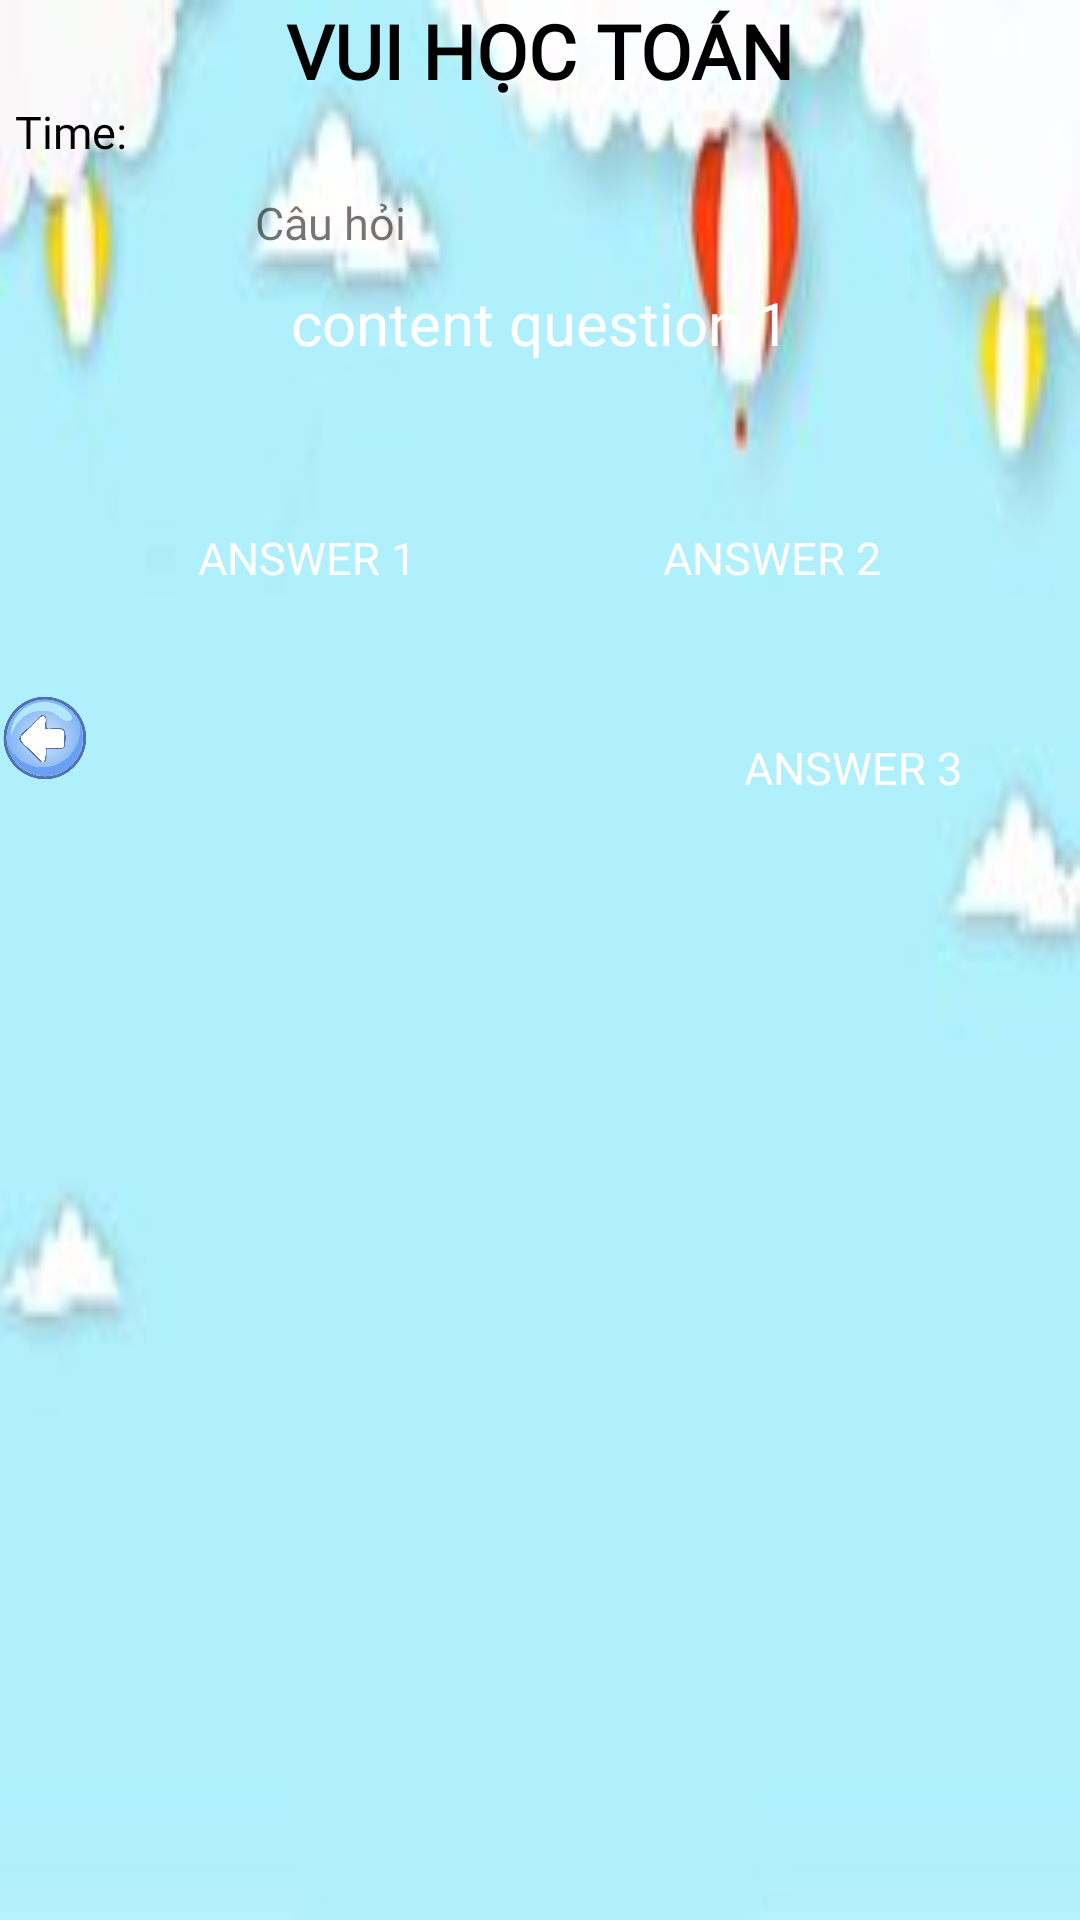

Named icons in this screenshot (1080w x 1920h) and their bounding boxes, (x1, y1, x2, y2):
quaylai: (3, 697, 86, 779)
